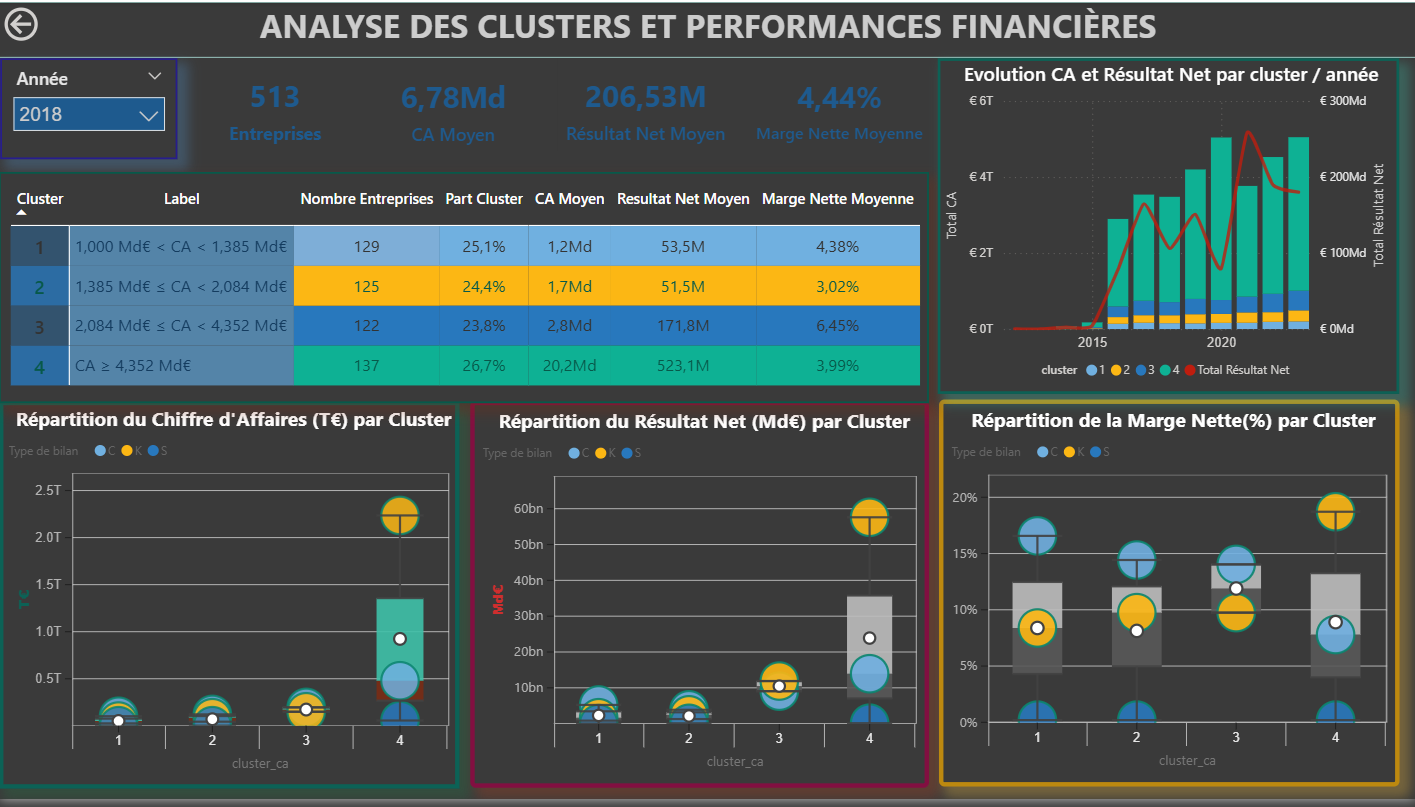

The page's visual inventory and layout, read from the dashboard file:
{"tool":"powerbi","page":{"name":"Analyse des Clusters","canvas":[1280,720],"ordinal":1},"visuals":[{"type":"textbox","title":"ANALYSE DES CLUSTERS ET PERFORMANCES FINANCIÈRES","box":[0,0,1279.8,50.3],"z":0},{"type":"card","fields":{"Values":["entreprises_milliardaires.Nb_Entreprises_Milliardaires"]},"box":[169.4,50.8,160.3,91.5],"z":1000},{"type":"card","fields":{"Values":["entreprises_milliardaires.Resultat_Net_Moyen_Cluster"]},"box":[504.7,50.8,159.2,91.5],"z":2000},{"type":"card","fields":{"Values":["entreprises_milliardaires.CA_Moyen_Cluster"]},"box":[330.8,50.8,159.2,93.7],"z":3000},{"type":"BoxandWhiskerByMAQ1823AD39DT234AB532063E128AX","title":"Répartition du Chiffre d''Affaires (T€) par Cluster","fields":{"categoryGroup":["entreprises_milliardaires.cluster_ca"],"measure":["entreprises_milliardaires.Total_CA"],"categoryColor":["entreprises_milliardaires.type_bilan"]},"box":[0,360.4,416,350],"z":4000},{"type":"BoxandWhiskerByMAQ1823AD39DT234AB532063E128AX","title":"Répartition du Résultat Net (Md€) par Cluster","fields":{"measure":["Sum(entreprises_milliardaires.resultat_net)"],"categoryGroup":["entreprises_milliardaires.cluster_ca"],"categoryColor":["entreprises_milliardaires.type_bilan"]},"box":[425.8,360.7,414.7,349.7],"z":5000},{"type":"BoxandWhiskerByMAQ1823AD39DT234AB532063E128AX","title":"Répartition de la Marge Nette(%) par Cluster","fields":{"categoryGroup":["entreprises_milliardaires.cluster_ca"],"measure":["Sum(entreprises_milliardaires.marge_nette)"],"categoryColor":["entreprises_milliardaires.type_bilan"]},"box":[849.1,359.5,416,349.7],"z":6000},{"type":"slicer","fields":{"Values":["entreprises_milliardaires.annee"]},"box":[1.1,50.8,160.3,91.5],"z":7000},{"type":"pivotTable","fields":{"Rows":["entreprises_milliardaires.cluster_ca"],"Values":["Min(entreprises_milliardaires.Cluster_Label)","entreprises_milliardaires.Nb_Entreprises_Milliardaires","entreprises_milliardaires.Part_Entreprises_Cluster","entreprises_milliardaires.CA_Moyen_Cluster","entreprises_milliardaires.Resultat_Net_Moyen_Cluster","entreprises_milliardaires.Marge_Nette_Moyenne_Cluster"]},"box":[0,153.6,840.1,208.9],"z":8000},{"type":"card","fields":{"Values":["entreprises_milliardaires.Marge_Nette_Moyenne_Cluster"]},"box":[674.1,50.8,170.5,91.5],"z":9000},{"type":"actionButton","box":[0,0,100,40],"z":10000},{"type":"lineStackedColumnComboChart","title":"Evolution CA et Résultat Net par cluster / année","fields":{"Category":["entreprises_milliardaires.annee"],"Series":["entreprises_milliardaires.cluster_ca"],"Y":["entreprises_milliardaires.Total_CA"],"Y2":["entreprises_milliardaires.Total_ResultatNet"]},"box":[847.9,50.3,417.2,303.1],"z":11000}]}

Visuals, with their boxes in screenshot pixels (x1, y1, x2, y2), scaled from the page's 1280x720 canvas onto the 1415x807 screenshot:
"ANALYSE DES CLUSTERS ET PERFORMANCES FINANCIÈRES" textbox: bbox(0, 0, 1414, 56)
card - entreprises_milliardaires.Nb_Entreprises_Milliardaires: bbox(187, 57, 364, 159)
card - entreprises_milliardaires.Resultat_Net_Moyen_Cluster: bbox(558, 57, 734, 159)
card - entreprises_milliardaires.CA_Moyen_Cluster: bbox(366, 57, 542, 162)
"Répartition du Chiffre d''Affaires (T€) par Cluster" BoxandWhiskerByMAQ1823AD39DT234AB532063E128AX: bbox(0, 404, 460, 796)
"Répartition du Résultat Net (Md€) par Cluster" BoxandWhiskerByMAQ1823AD39DT234AB532063E128AX: bbox(471, 404, 929, 796)
"Répartition de la Marge Nette(%) par Cluster" BoxandWhiskerByMAQ1823AD39DT234AB532063E128AX: bbox(939, 403, 1399, 795)
slicer - entreprises_milliardaires.annee: bbox(1, 57, 178, 159)
pivotTable - entreprises_milliardaires.cluster_ca x Min(entreprises_milliardaires.Cluster_Label): bbox(0, 172, 929, 406)
card - entreprises_milliardaires.Marge_Nette_Moyenne_Cluster: bbox(745, 57, 934, 159)
actionButton: bbox(0, 0, 111, 45)
"Evolution CA et Résultat Net par cluster / année" lineStackedColumnComboChart: bbox(937, 56, 1399, 396)
